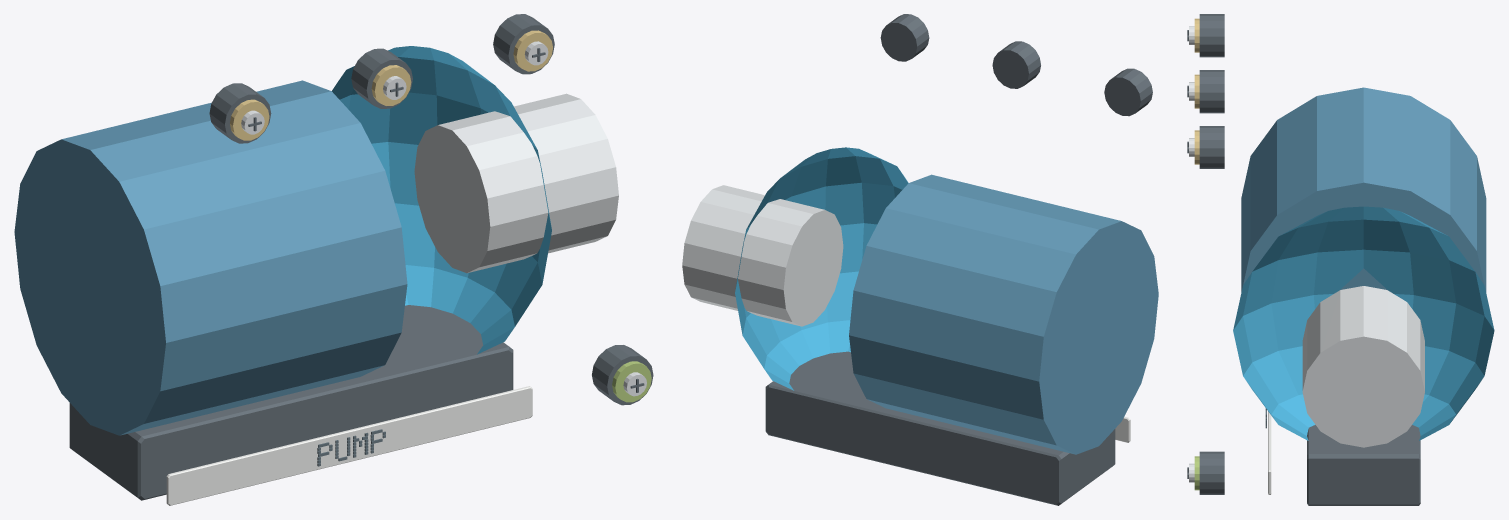
The model's file is pump.glb.
3 views of the same model, side by side, from view 1: azimuth 30°, elevation 25°; view 2: azimuth 150°, elevation 25°; view 3: azimuth 270°, elevation 25° (orthographic). The views are drawn at different scales.
Visible parts, largest first — view 1: pump-preview; view 2: pump-preview; view 3: pump-preview.
Part boxes in pixels (left/top/right/bottom): pump-preview: left=14, top=14, right=653, bottom=505; pump-preview: left=682, top=14, right=1158, bottom=505; pump-preview: left=1187, top=14, right=1494, bottom=505.
Bounding box in the file's own units: 3.32 × 2.88 × 2.22.
